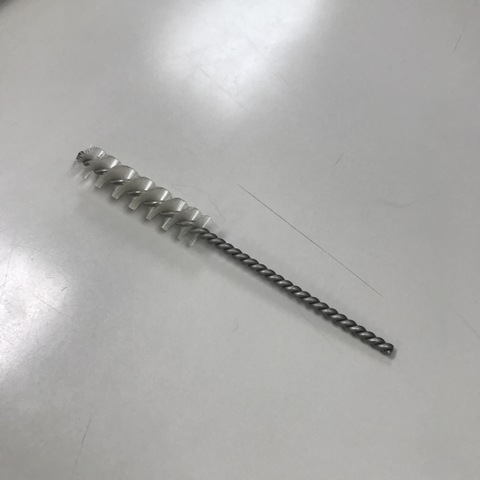Twist Brush-B: (67, 145, 400, 360)
